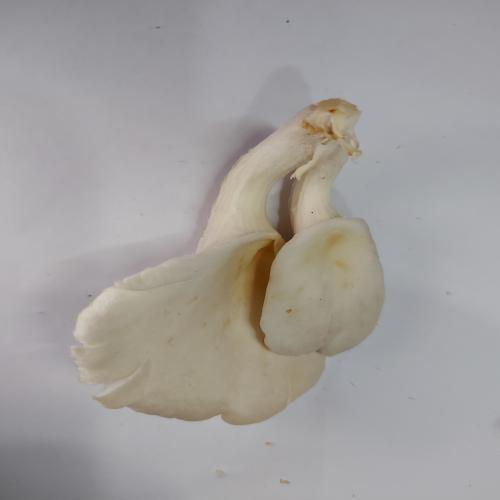Oyster Mushroom: (70, 96, 387, 426)
